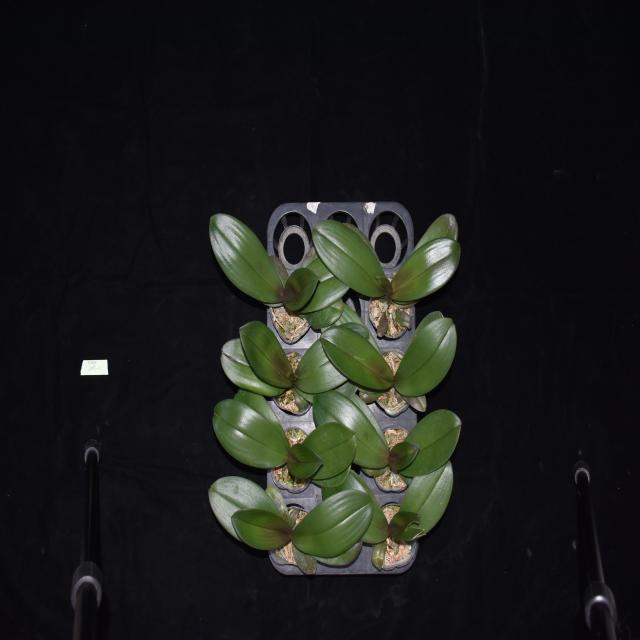leaf: (209, 213, 285, 307), (313, 218, 391, 304), (208, 476, 284, 552), (291, 489, 374, 558), (313, 393, 389, 468), (295, 322, 369, 394), (213, 399, 288, 469), (394, 319, 456, 399), (322, 469, 388, 542), (321, 326, 394, 390), (399, 458, 454, 541), (392, 237, 462, 302), (398, 408, 462, 476), (221, 337, 288, 397), (238, 317, 294, 388), (233, 389, 290, 448), (303, 422, 356, 480), (300, 254, 352, 312), (230, 508, 292, 550), (410, 212, 460, 254), (283, 266, 319, 311), (311, 537, 364, 566), (407, 310, 445, 348), (288, 440, 324, 479), (265, 484, 291, 528), (389, 510, 427, 540), (389, 442, 420, 472), (292, 540, 318, 574), (311, 464, 351, 486), (359, 385, 391, 403), (399, 391, 426, 412), (371, 538, 387, 571), (376, 306, 389, 341), (333, 379, 359, 396), (395, 306, 411, 329), (376, 274, 392, 292), (289, 507, 300, 527), (289, 374, 298, 382)
